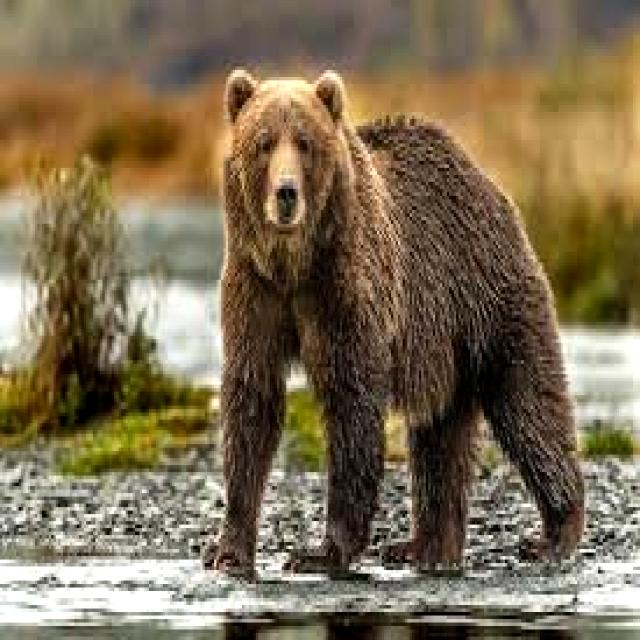bear: (206, 44, 561, 555)
